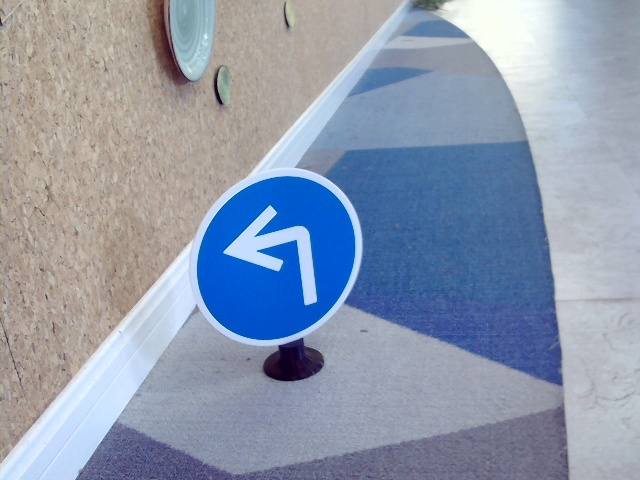turn_left: (227, 205, 319, 305)
